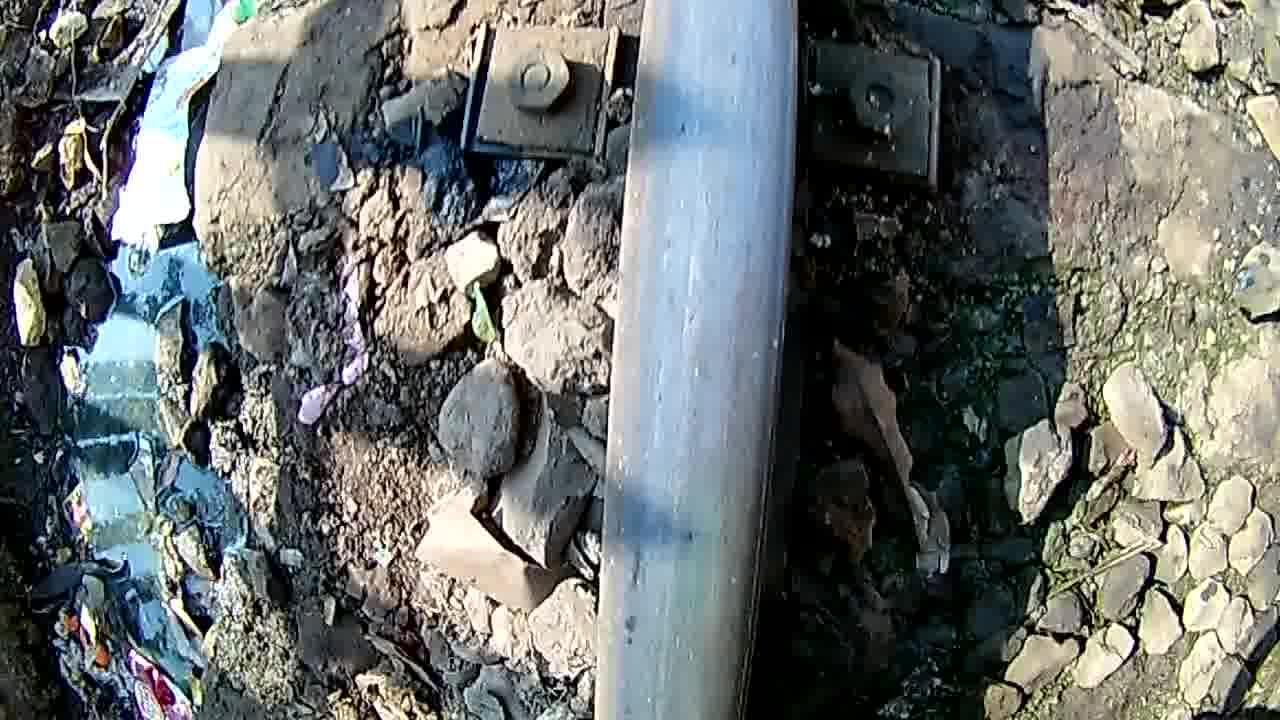crack: (602, 0, 798, 720)
